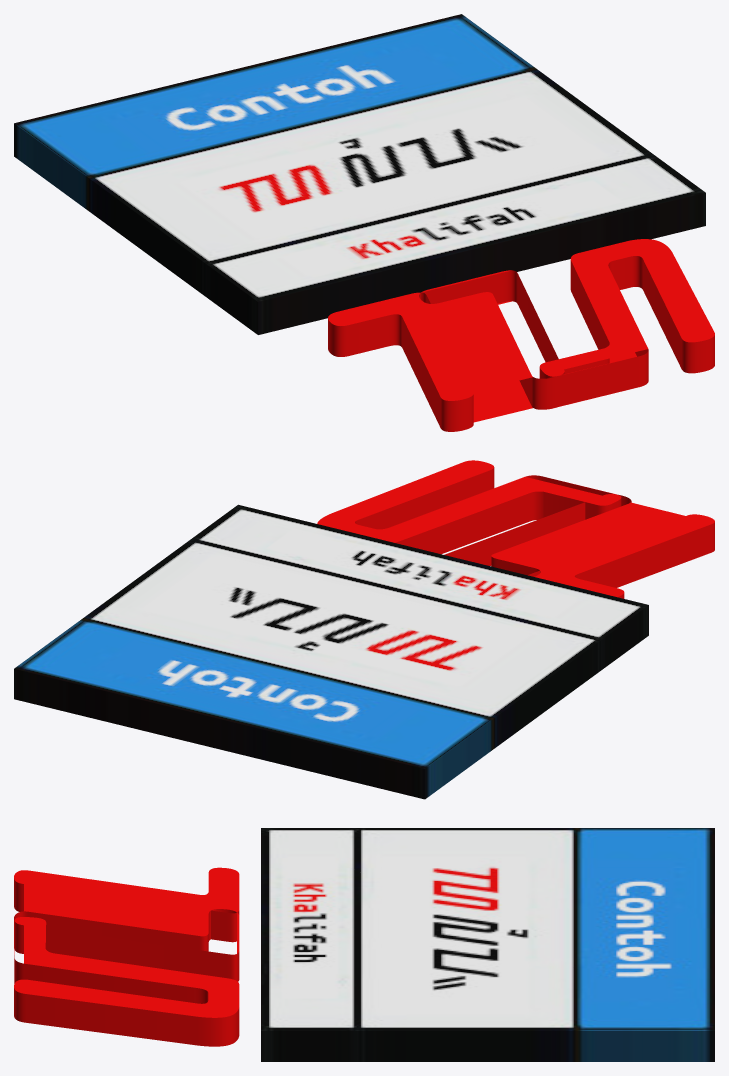
Rendered from kha.fbx.
3 views of the same model, one above another, from view 1: azimuth 30°, elevation 25°; view 2: azimuth 150°, elevation 25°; view 3: azimuth 270°, elevation 25° (orthographic). The views are drawn at different scales.
Visible parts, largest first — view 1: contoh-bunyi-huruf-kha-Ngalagena, Text; view 2: contoh-bunyi-huruf-kha-Ngalagena, Text; view 3: contoh-bunyi-huruf-kha-Ngalagena, Text.
Part boxes in pixels (x1=…): contoh-bunyi-huruf-kha-Ngalagena: x1=14, y1=14, x2=705, y2=334; Text: x1=328, y1=239, x2=714, y2=431; contoh-bunyi-huruf-kha-Ngalagena: x1=14, y1=504, x2=648, y2=799; Text: x1=317, y1=460, x2=714, y2=598; contoh-bunyi-huruf-kha-Ngalagena: x1=261, y1=828, x2=714, y2=1061; Text: x1=14, y1=867, x2=239, y2=1046.
Size of the model in its own units: 1.06 by 0.11 by 1.54.
Materials: 2 (1 with a texture image).
